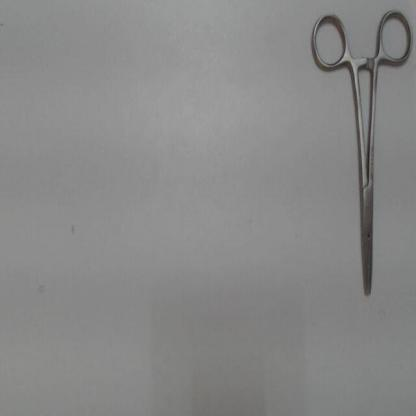Mayo Needle Holder: (306, 4, 414, 305)
